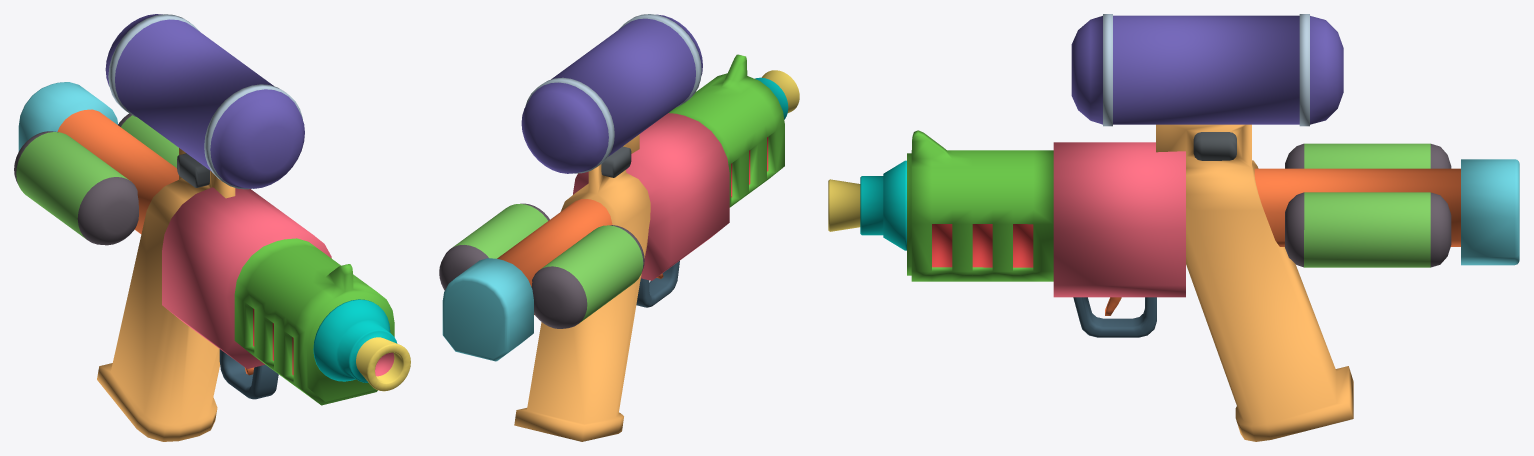
File: Watergun2.fbx
The picture shows the model from 3 angles, left to right: view 1: azimuth 30°, elevation 25°; view 2: azimuth 150°, elevation 25°; view 3: azimuth 270°, elevation 25°; orthographic projection. The views are drawn at different scales.
Visible parts, largest first — view 1: Watergun2; view 2: Watergun2; view 3: Watergun2.
Part boxes in pixels (<box>): Watergun2: <box>14,14,410,441</box>; Watergun2: <box>439,14,799,441</box>; Watergun2: <box>828,14,1519,441</box>.
Bounding box in the file's own units: 0.1099 × 0.2607 × 0.3984.
